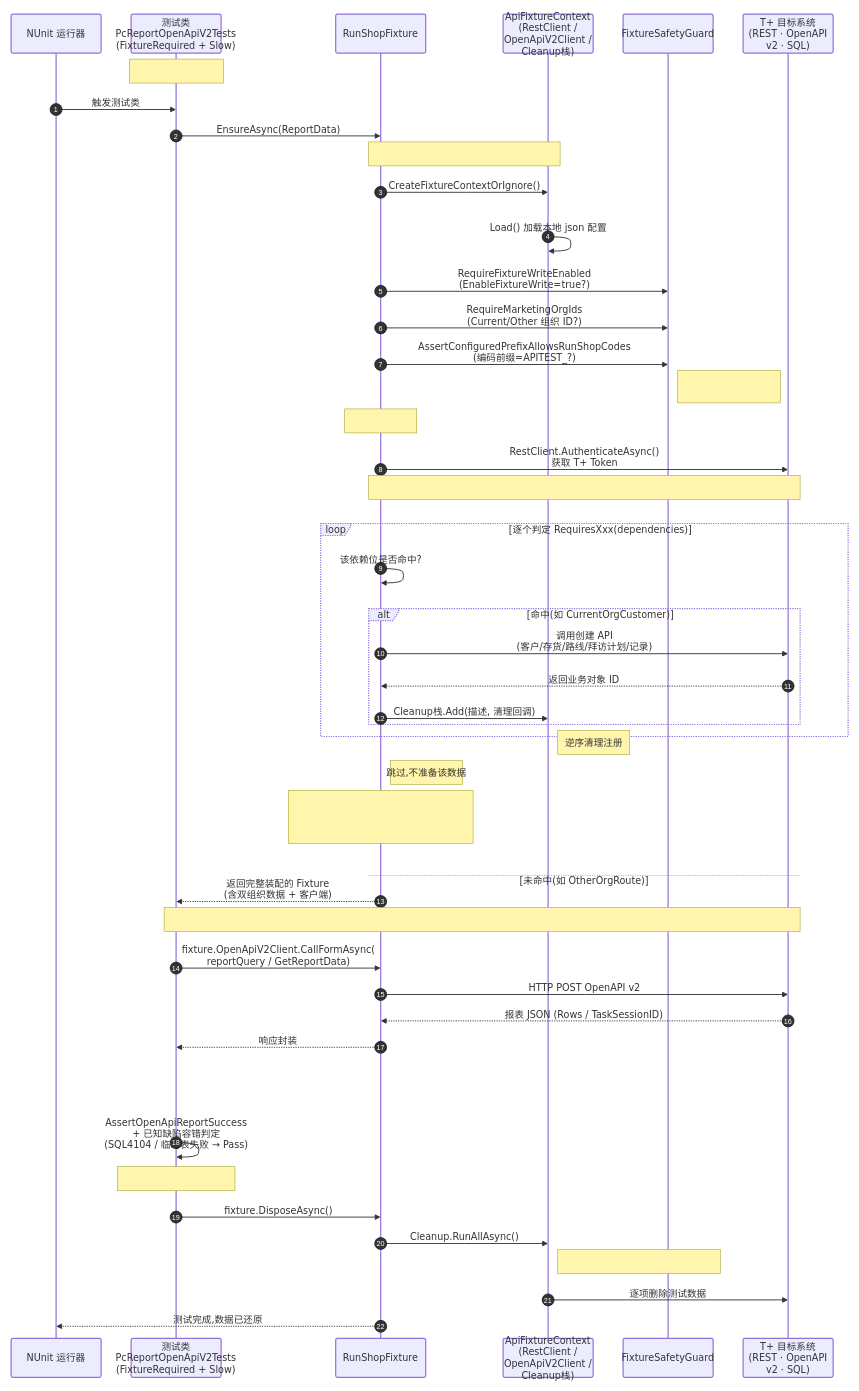
Image size: 859x1391. Some labels were removed from this diagram. The centre of each missing label's shape, as x and y in pixels:
LIFO 逆序执行: 拜访记录→拜访计划→...→客户: the point at 638,1261
① [OneTimeSetUp] 启动: the point at 176,70
② 创建上下文 + 三层安全闸: the point at 464,153
③ 认证: the point at 380,420
④ 按位掩码条件化准备数据: the point at 584,487
⑤ 测试方法执行(可多个): the point at 482,919
⑥ [OneTimeTearDown] 自动清理: the point at 176,1178
任一不满足 → Assert.Ignore 测试跳过,不报错: the point at 728,386
准备顺序(有依赖关系): 拜访人员→双组织客户→清理阻塞→存货→报表源→ 当前路线→其他路线→当前拜访计划→其他拜访计划→ 当前拜访记录→其他拜访记录: the point at 380,816
